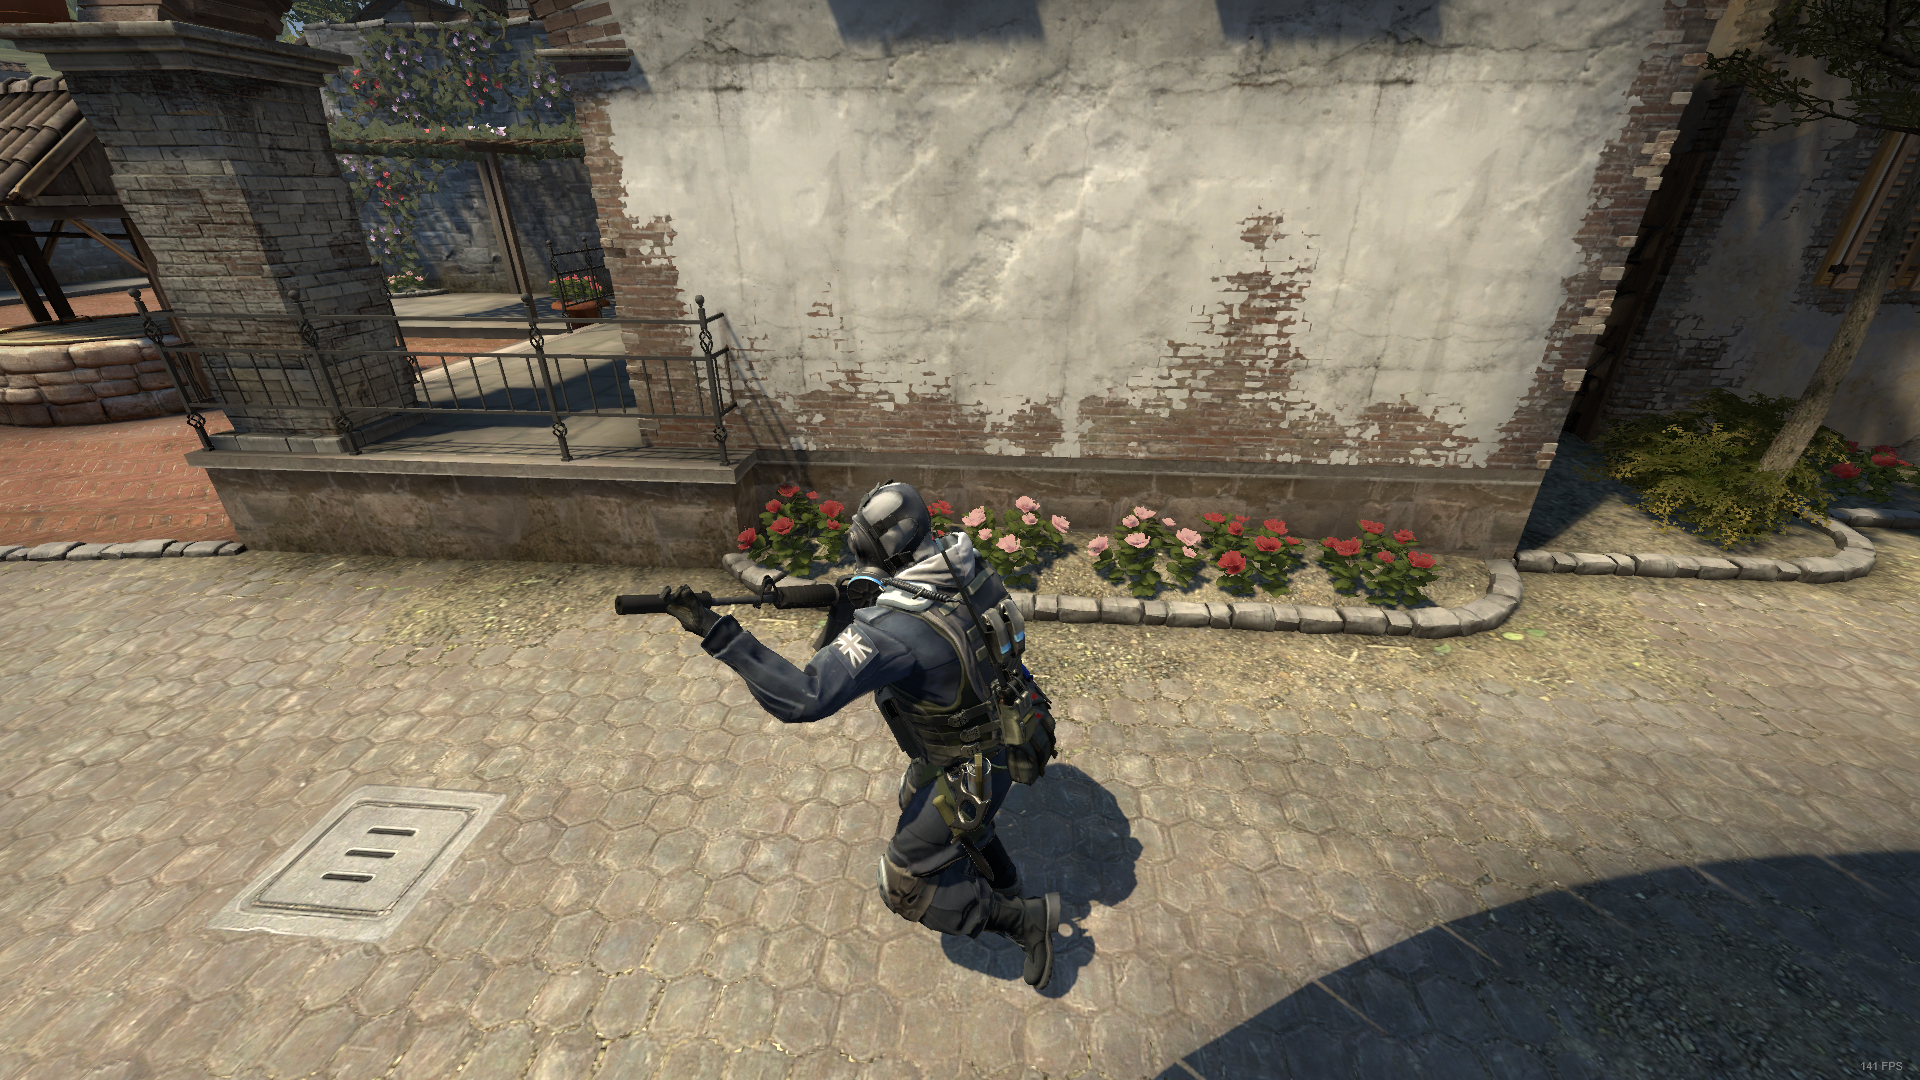ct: (663, 483, 1064, 996)
